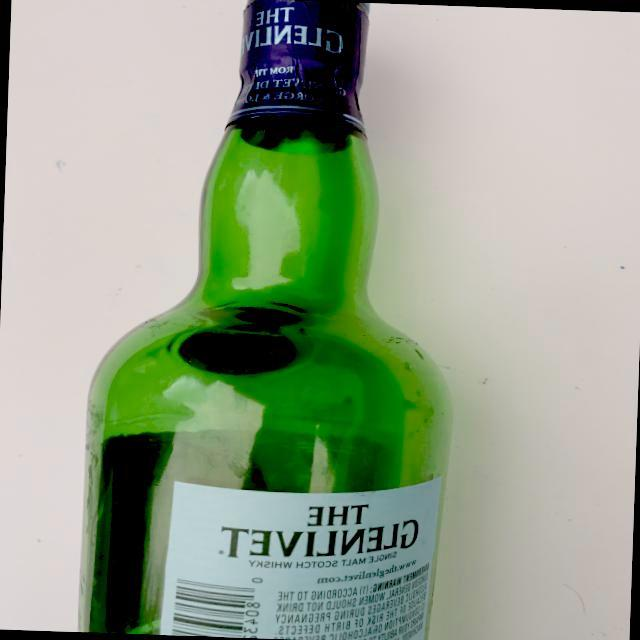glass: (65, 0, 464, 640)
